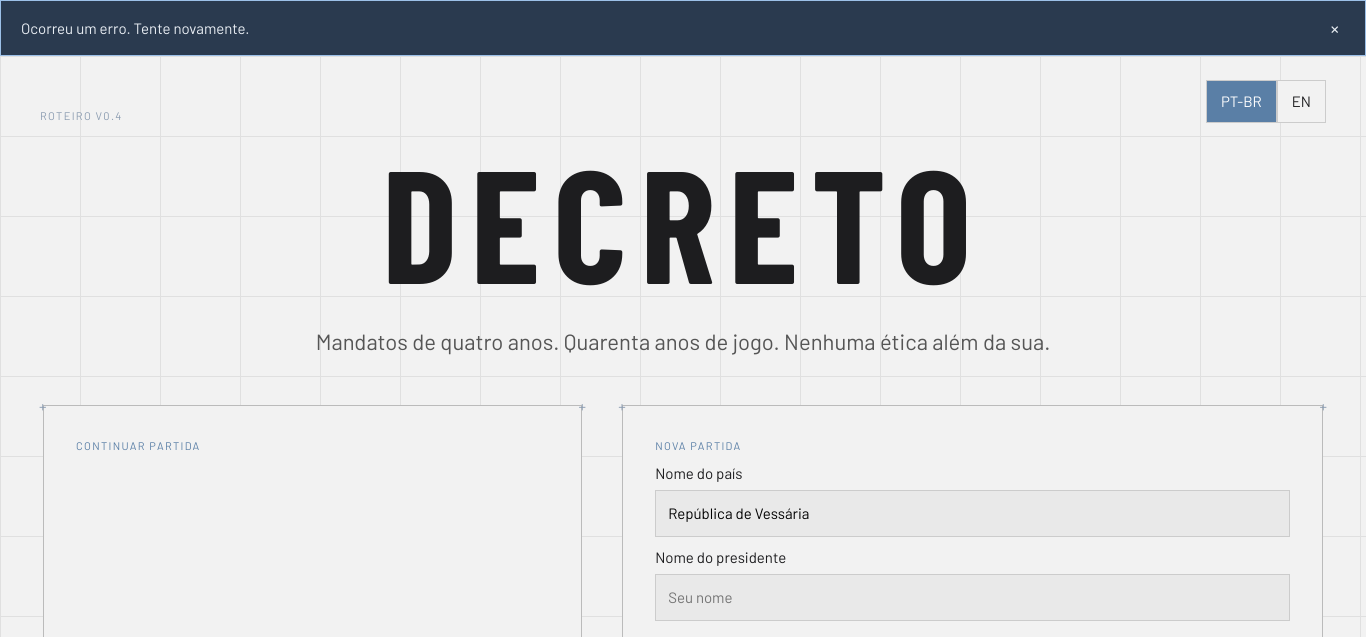
it: App with API › shows a recoverable error when loading a saved game fails
This screenshot has width=1366, height=637.
Check: the message shows "Ocorreu um erro", box [21,18,249,36]
Click the button named "Fechar aviso" at (1335, 28), box [1324,13,1345,43]
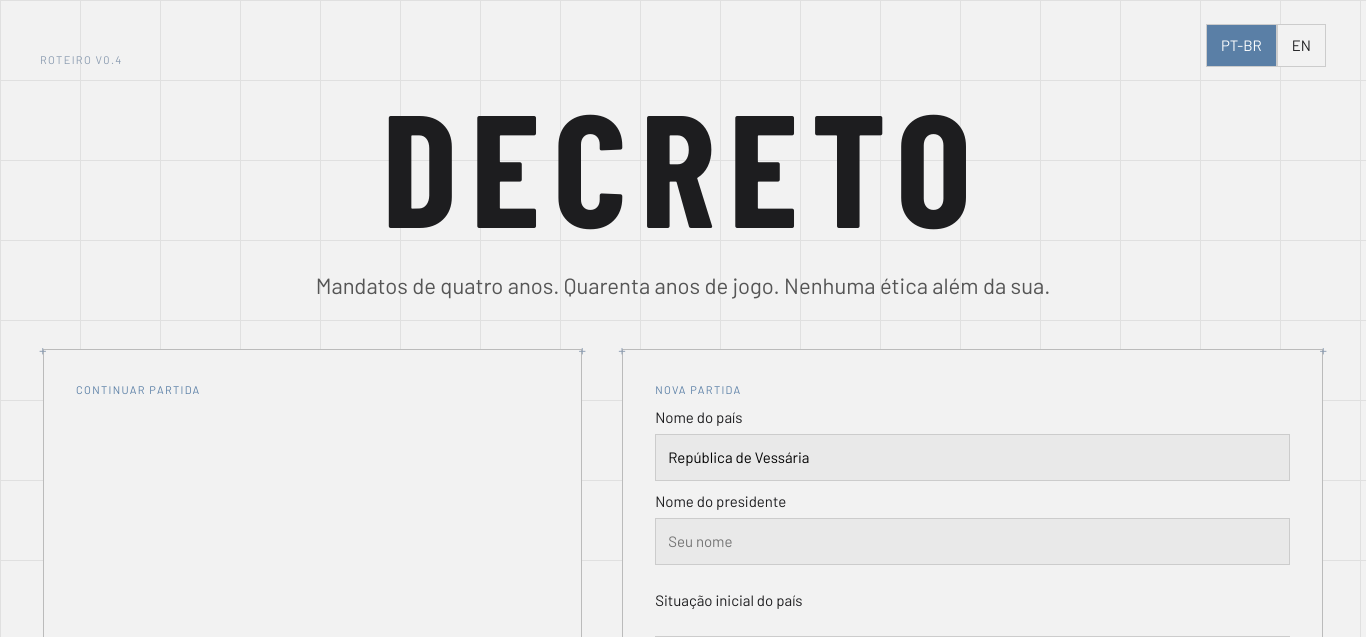
Check: the message "Ocorreu um erro. Tente novamente. ×" is gone
